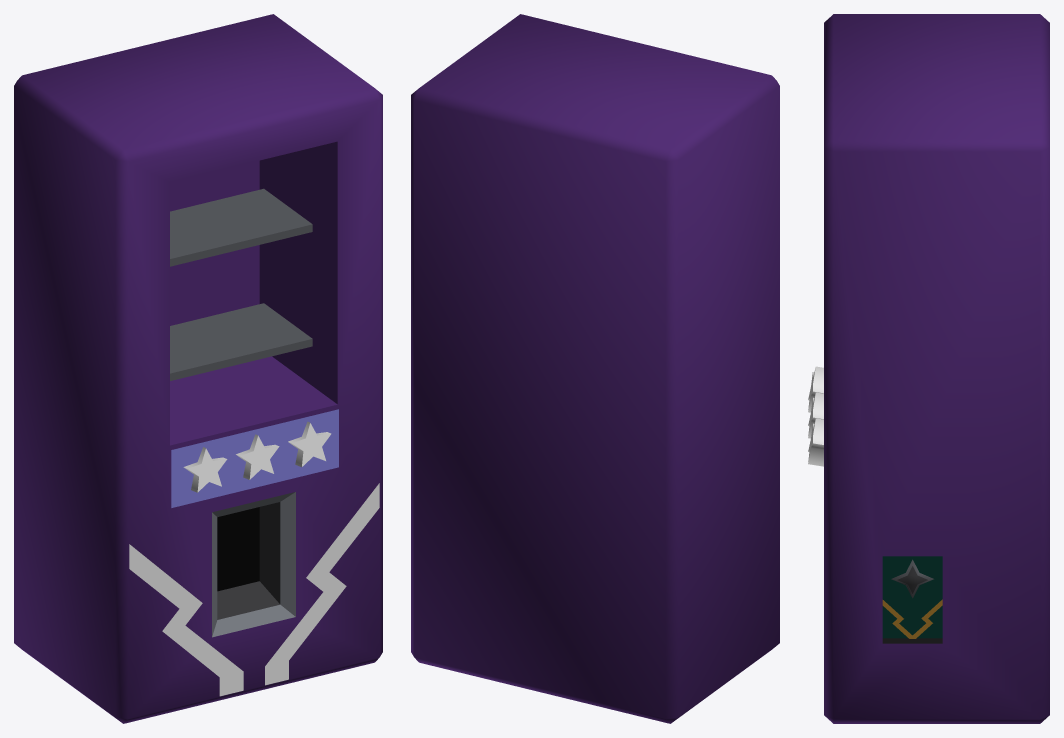
File: MagiVend.glb
The picture shows the model from 3 angles, left to right: view 1: azimuth 30°, elevation 25°; view 2: azimuth 150°, elevation 25°; view 3: azimuth 270°, elevation 25°; orthographic projection.
Parts seen in each view (by area): view 1: MagiVend; view 2: MagiVend; view 3: MagiVend.
Boxes of the visible parts, left/top/right/bottom form: MagiVend: left=14, top=14, right=382, bottom=723; MagiVend: left=411, top=14, right=779, bottom=723; MagiVend: left=808, top=14, right=1049, bottom=723.
Size of the model in its own units: 0.8775 by 1.8 by 0.6743.
Materials: 2 (1 with a texture image).
